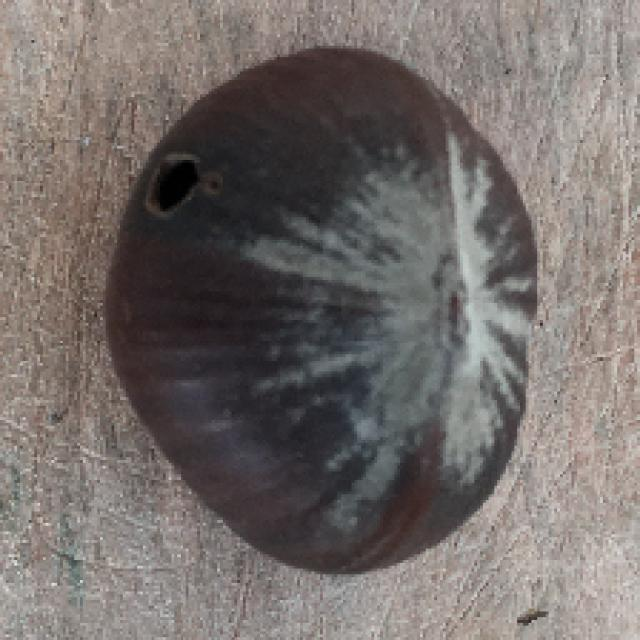damagedHazelnut: (105, 37, 542, 573)
